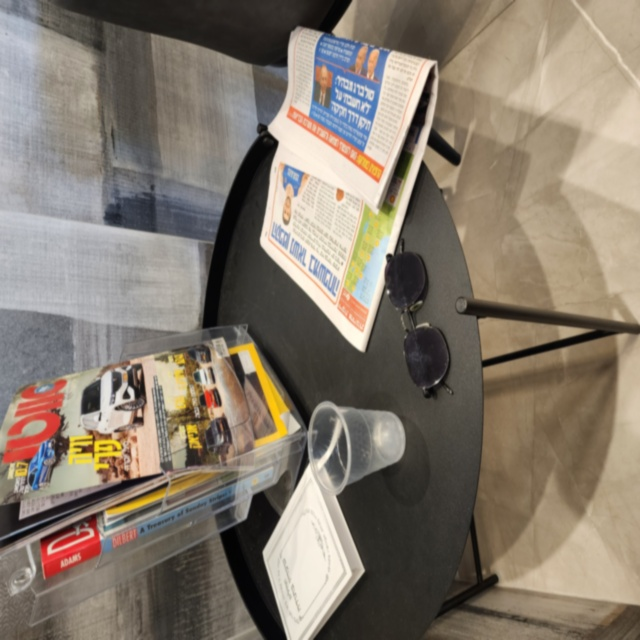glasses: (380, 233, 459, 403)
